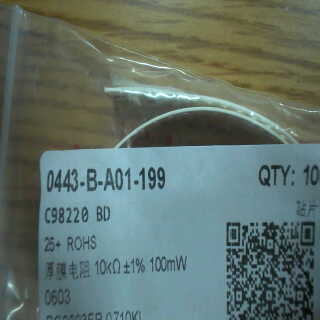10kR: (89, 255, 124, 278)
